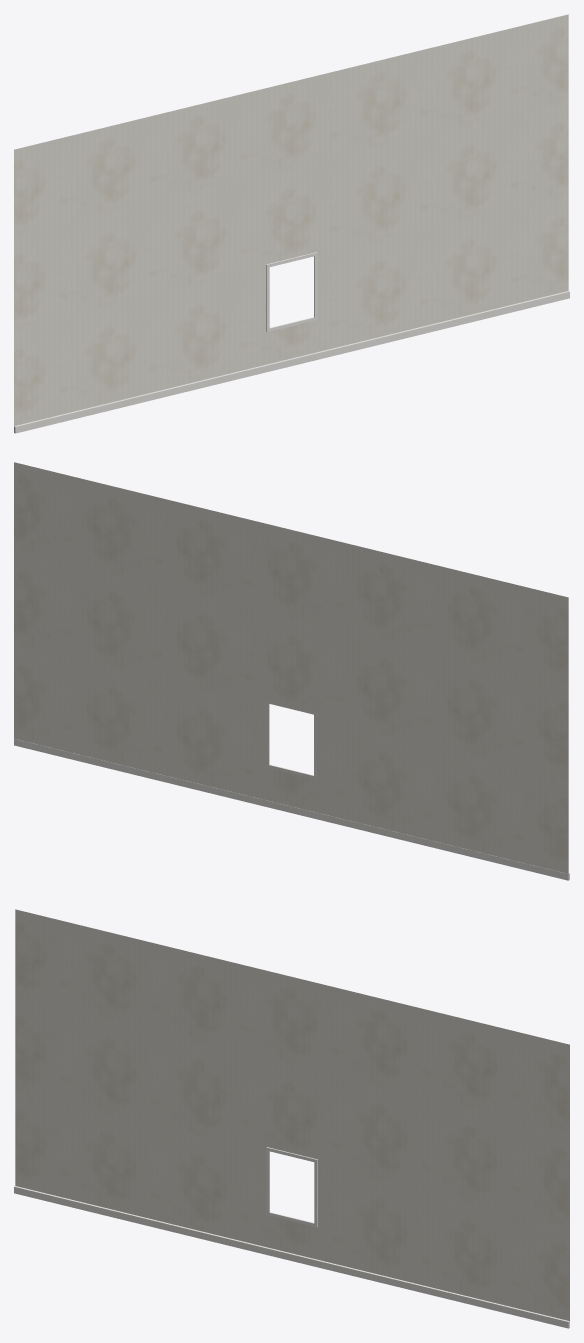
The model's file is wall_hatch_hi.gltf.
3 views of the same model, one above another, from view 1: azimuth 30°, elevation 25°; view 2: azimuth 150°, elevation 25°; view 3: azimuth 330°, elevation 25° (orthographic).
Visible parts, largest first — view 1: jx_w_hatch_hi; view 2: jx_w_hatch_hi; view 3: jx_w_hatch_hi.
Part boxes in pixels (bbox=[...]): jx_w_hatch_hi: bbox=[14, 14, 569, 433]; jx_w_hatch_hi: bbox=[14, 462, 569, 880]; jx_w_hatch_hi: bbox=[14, 909, 569, 1328].
Size of the model in its own units: 12.3 by 6 by 0.05.
Materials: 2 (2 with a texture image).
